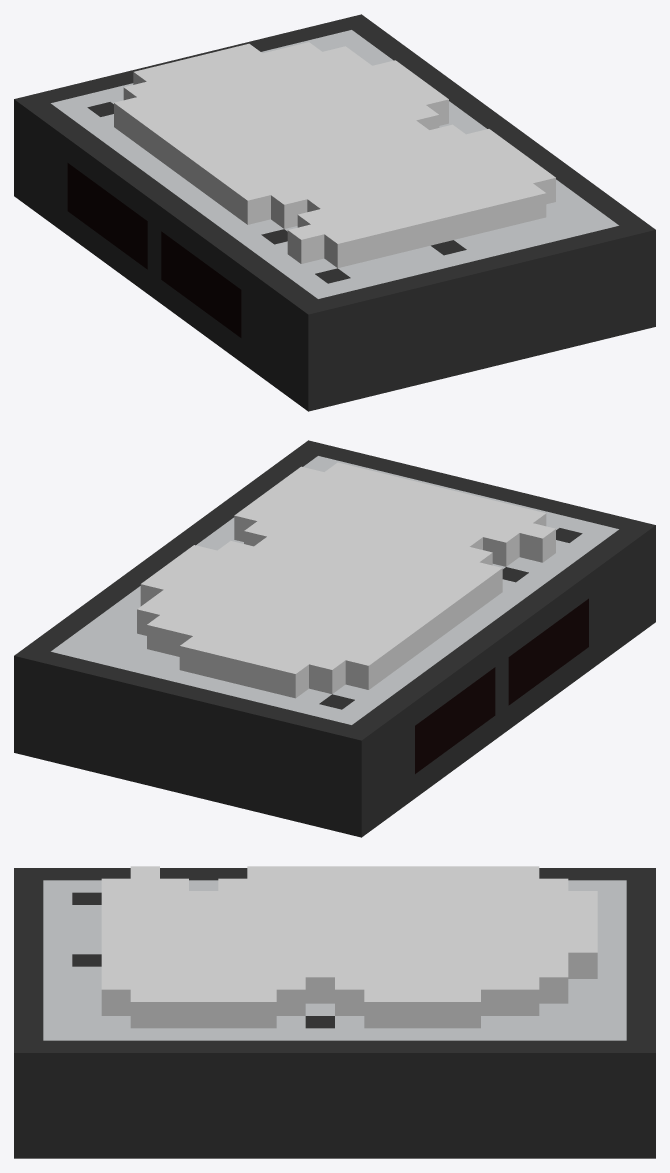
File: harddrive2.obj
3 renders of one model, top to bottom at view 1: azimuth 30°, elevation 25°; view 2: azimuth 150°, elevation 25°; view 3: azimuth 270°, elevation 25°, orthographic. The views are drawn at different scales.
Visible parts, largest first — view 1: harddrive; view 2: harddrive; view 3: harddrive.
Boxes of the visible parts, x1,y1,x2,y2 form: harddrive: (14, 14, 655, 411); harddrive: (14, 440, 655, 837); harddrive: (14, 866, 655, 1158).
Bounding box in the file's own units: 15 × 5 × 22.
1 material, 1 textured.
